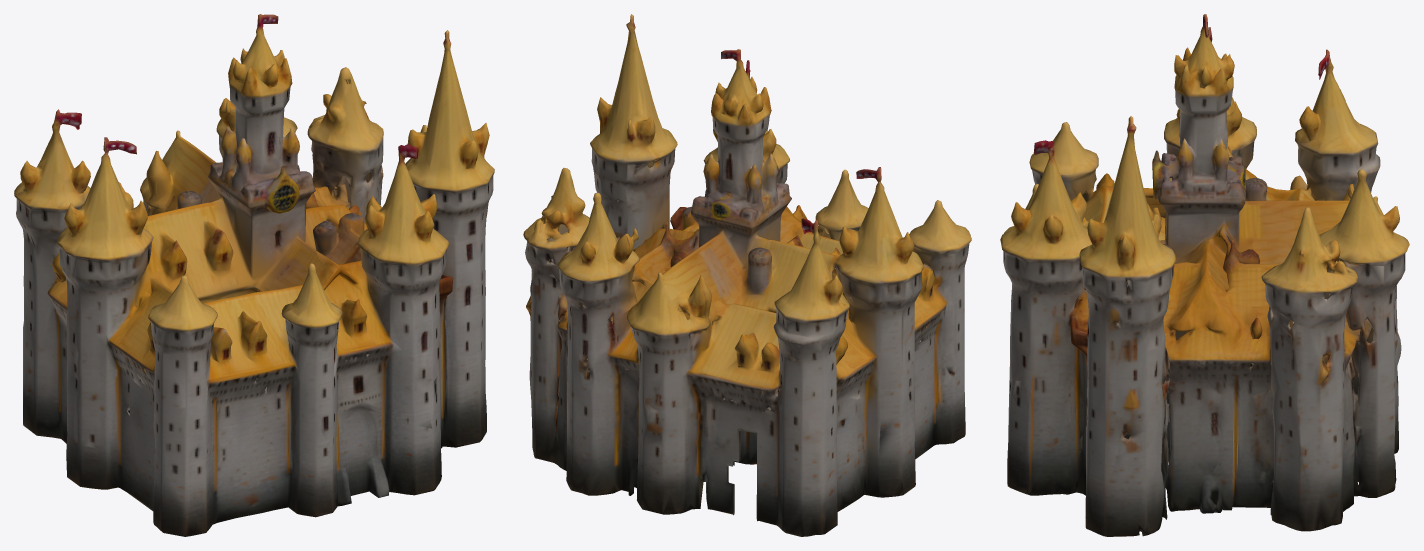
Rendered from fantasy-castle.glb.
3 renders of one model, left to right at view 1: azimuth 30°, elevation 25°; view 2: azimuth 150°, elevation 25°; view 3: azimuth 270°, elevation 25°, orthographic. The views are drawn at different scales.
Visible parts, largest first — view 1: material; view 2: material; view 3: material.
Part boxes in pixels (<box>): material: <box>14,14,494,536</box>; material: <box>523,14,971,536</box>; material: <box>1000,14,1409,536</box>.
Size of the model in its own units: 0.7919 by 0.8385 by 0.7157.
1 material, 1 textured.
